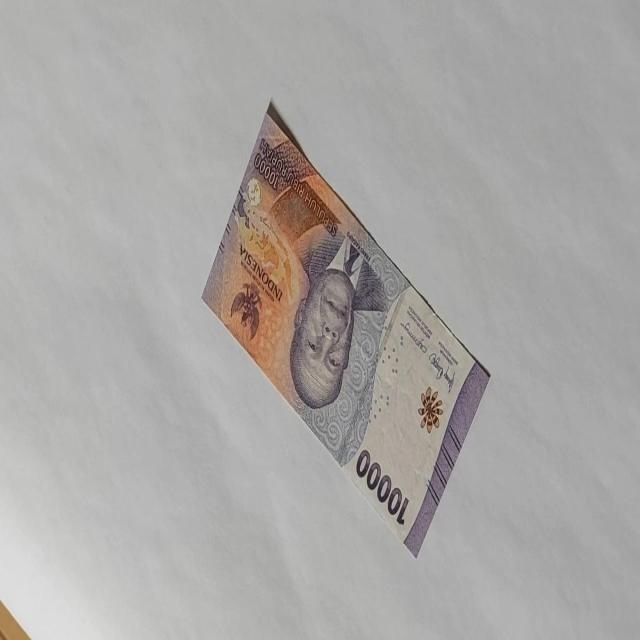Kertas: (201, 98, 491, 558), (355, 447, 410, 526)
